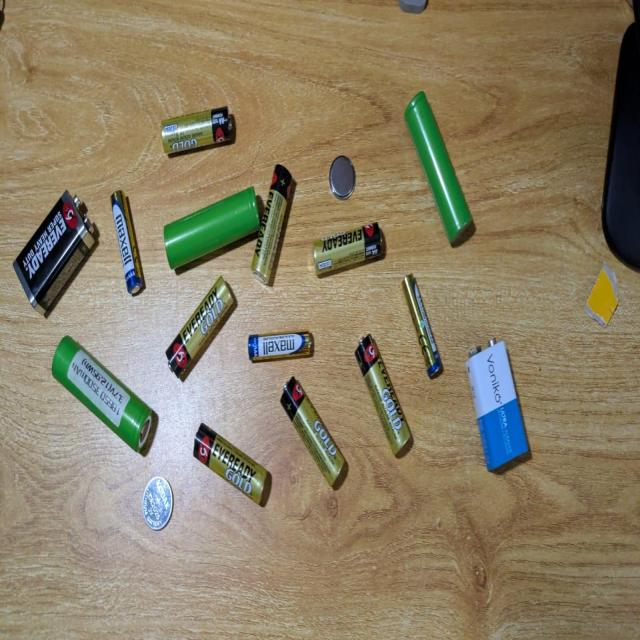9V: (12, 190, 96, 314), (464, 336, 530, 471)
AA: (164, 274, 237, 382), (354, 334, 412, 460), (281, 375, 344, 488), (192, 421, 270, 506), (251, 163, 293, 286), (159, 106, 233, 158), (311, 221, 378, 278)
AAA: (402, 274, 442, 379), (111, 190, 144, 296), (247, 330, 312, 362)
COIN: (141, 476, 173, 532), (328, 154, 356, 202)
